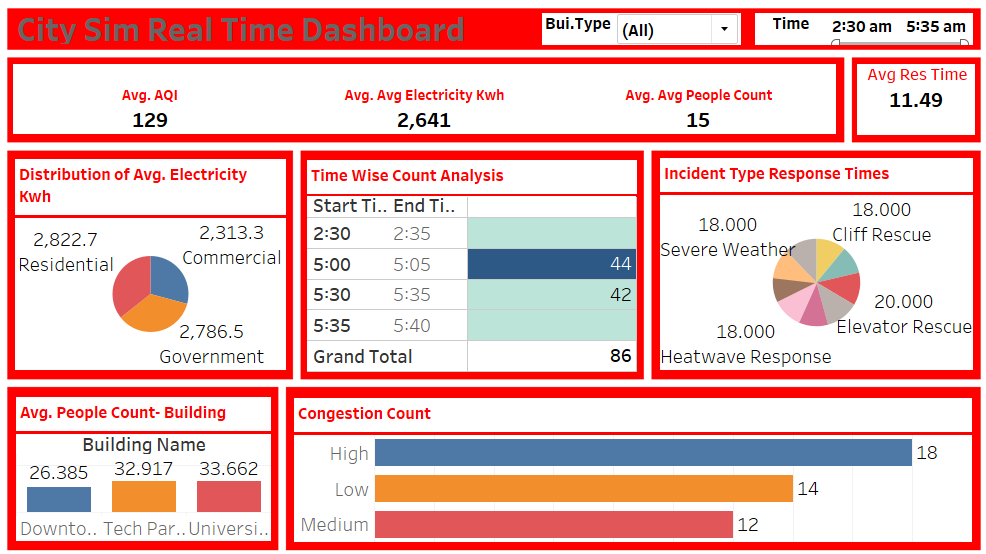

The page's visual inventory and layout, read from the dashboard file:
{"tool":"tableau","page":{"name":"Dashboard 1","canvas":[1000,800],"ordinal":0},"visuals":[{"type":"image","param":"Image/Red-White.png","box":[8,8,984,784]},{"type":"text","box":[19,134,811,31]},{"type":"filter","title":"KPI (2)","param":"[federated.152uz0j1gpy1l91ffuzx30lax1lh].[none:building_type:nk]","box":[548,134,199,32]},{"type":"filter","title":"KPI (2)","param":"[federated.152uz0j1gpy1l91ffuzx30lax1lh].[tmi:window_start:qk]","box":[761,134,218,32]},{"type":"text","box":[863,180,121,30]},{"type":"worksheet","title":"KPI","mark":"Automatic","box":[19,185,823,70]},{"type":"worksheet","title":"KPI (2)","mark":"Automatic","box":[863,185,118,71]},{"type":"worksheet","title":"Incident Type Response Times","mark":"Pie","box":[666,279,313,212]},{"type":"worksheet","title":"Distribution of Avg. Electricity Kwh","mark":"Pie","box":[21,280,271,211]},{"type":"worksheet","title":"Time Wise Count Analysis","mark":"Square","rows":["Calculation_1645221289355821059","Calculation_1645221289355964420"],"box":[313,281,330,212]},{"type":"worksheet","title":"Avg. People Count- Building","mark":"Automatic","rows":["avg_people_count"],"cols":["building_name"],"box":[22,518,255,144]},{"type":"worksheet","title":"Congestion Count","mark":"Automatic","rows":["congestion_level"],"cols":["count"],"box":[300,519,678,144]}]}

Visuals, with their boxes on the page's 1000x800 design canvas (x1, y1, x2, y2). These are canvas units, not pixel positions in the 986x554 screenshot, which may show the page scaled, cropped or inside an application window:
image: box(8, 8, 992, 792)
text: box(19, 134, 830, 165)
"KPI (2)" filter: box(548, 134, 747, 166)
"KPI (2)" filter: box(761, 134, 979, 166)
text: box(863, 180, 984, 210)
"KPI" worksheet: box(19, 185, 842, 255)
"KPI (2)" worksheet: box(863, 185, 981, 256)
"Incident Type Response Times" worksheet (Pie marks): box(666, 279, 979, 491)
"Distribution of Avg. Electricity Kwh" worksheet (Pie marks): box(21, 280, 292, 491)
"Time Wise Count Analysis" worksheet (Square marks): box(313, 281, 643, 493)
"Avg. People Count- Building" worksheet: box(22, 518, 277, 662)
"Congestion Count" worksheet: box(300, 519, 978, 663)
